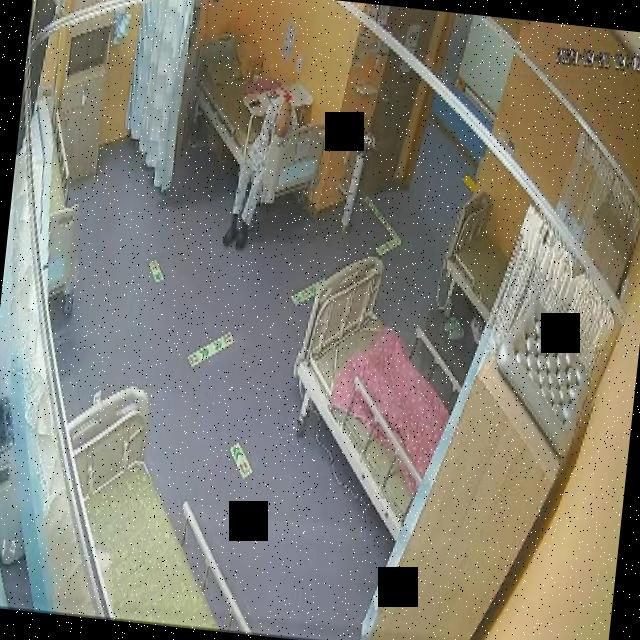bed: (46, 378, 274, 634), (282, 252, 464, 540), (182, 31, 335, 208), (438, 190, 516, 324)
patient: (220, 88, 300, 255)
sit: (220, 88, 300, 254)
